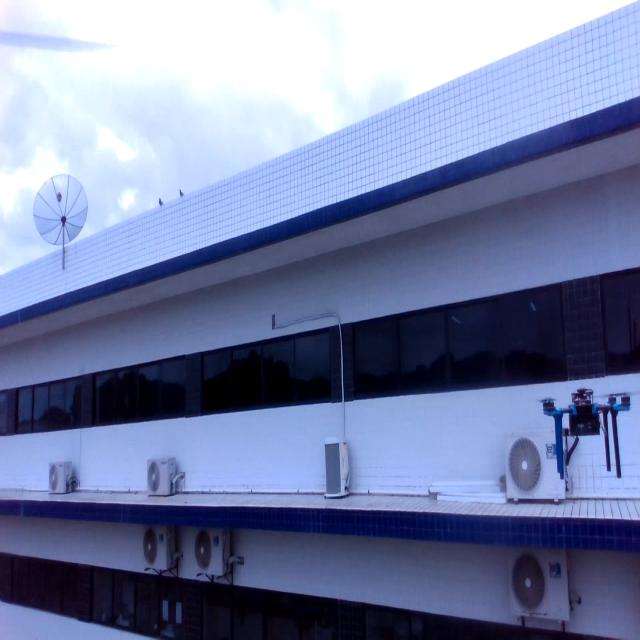-uav-: (529, 379, 640, 492)
